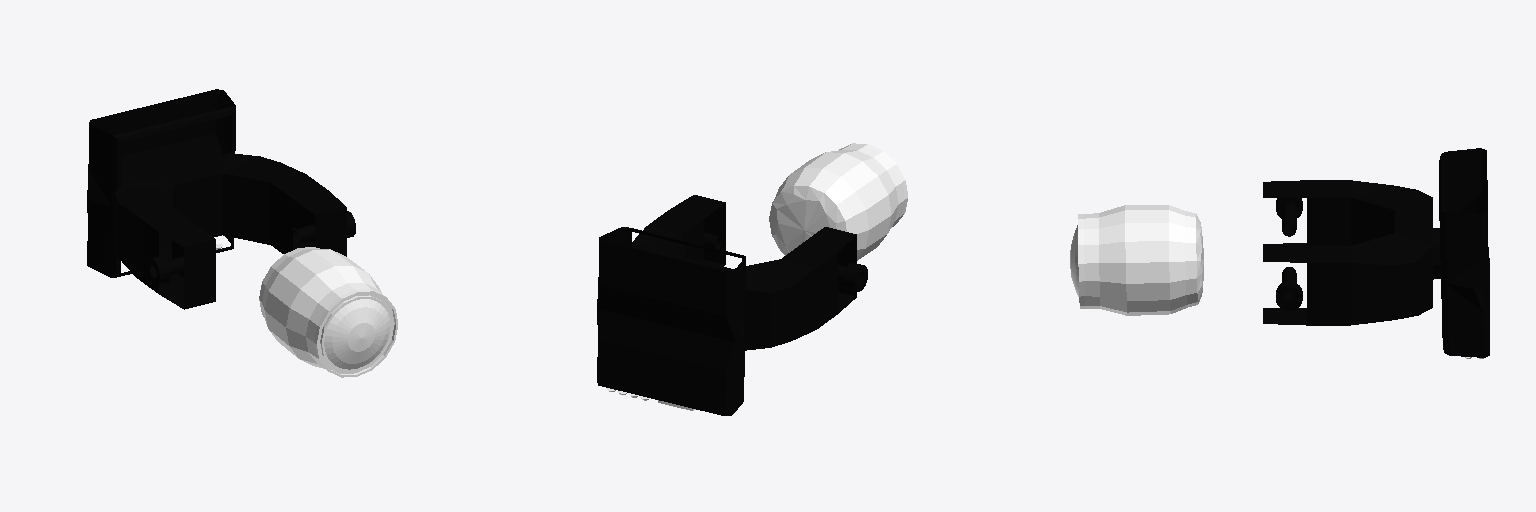
File: MovingHead.obj
3 renders of one model, left to right at view 1: azimuth 30°, elevation 25°; view 2: azimuth 150°, elevation 25°; view 3: azimuth 270°, elevation 25°, orthographic.
Parts seen in each view (by area): view 1: Stand, Light, Base; view 2: Base, Stand, Light; view 3: Stand, Light, Base.
Part boxes in pixels (bbox=[...]): Stand: bbox=[115, 153, 355, 309]; Light: bbox=[259, 247, 397, 377]; Base: bbox=[87, 89, 235, 277]; Base: bbox=[597, 227, 745, 415]; Stand: bbox=[632, 195, 867, 350]; Light: bbox=[769, 143, 907, 260]; Stand: bbox=[1263, 180, 1432, 325]; Light: bbox=[1070, 205, 1203, 315]; Base: bbox=[1433, 148, 1489, 357].
Size of the model in its own units: 57.13 by 42 by 106.